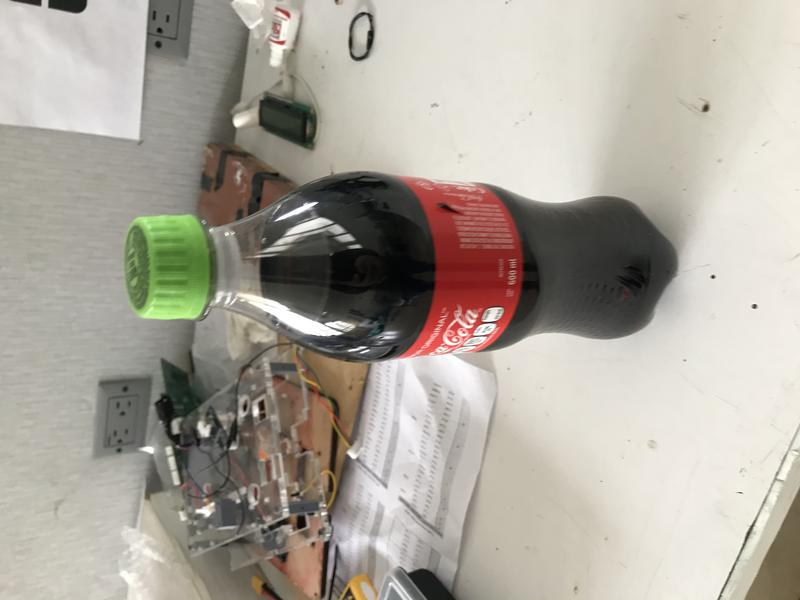coca_cola: (126, 170, 680, 364)
